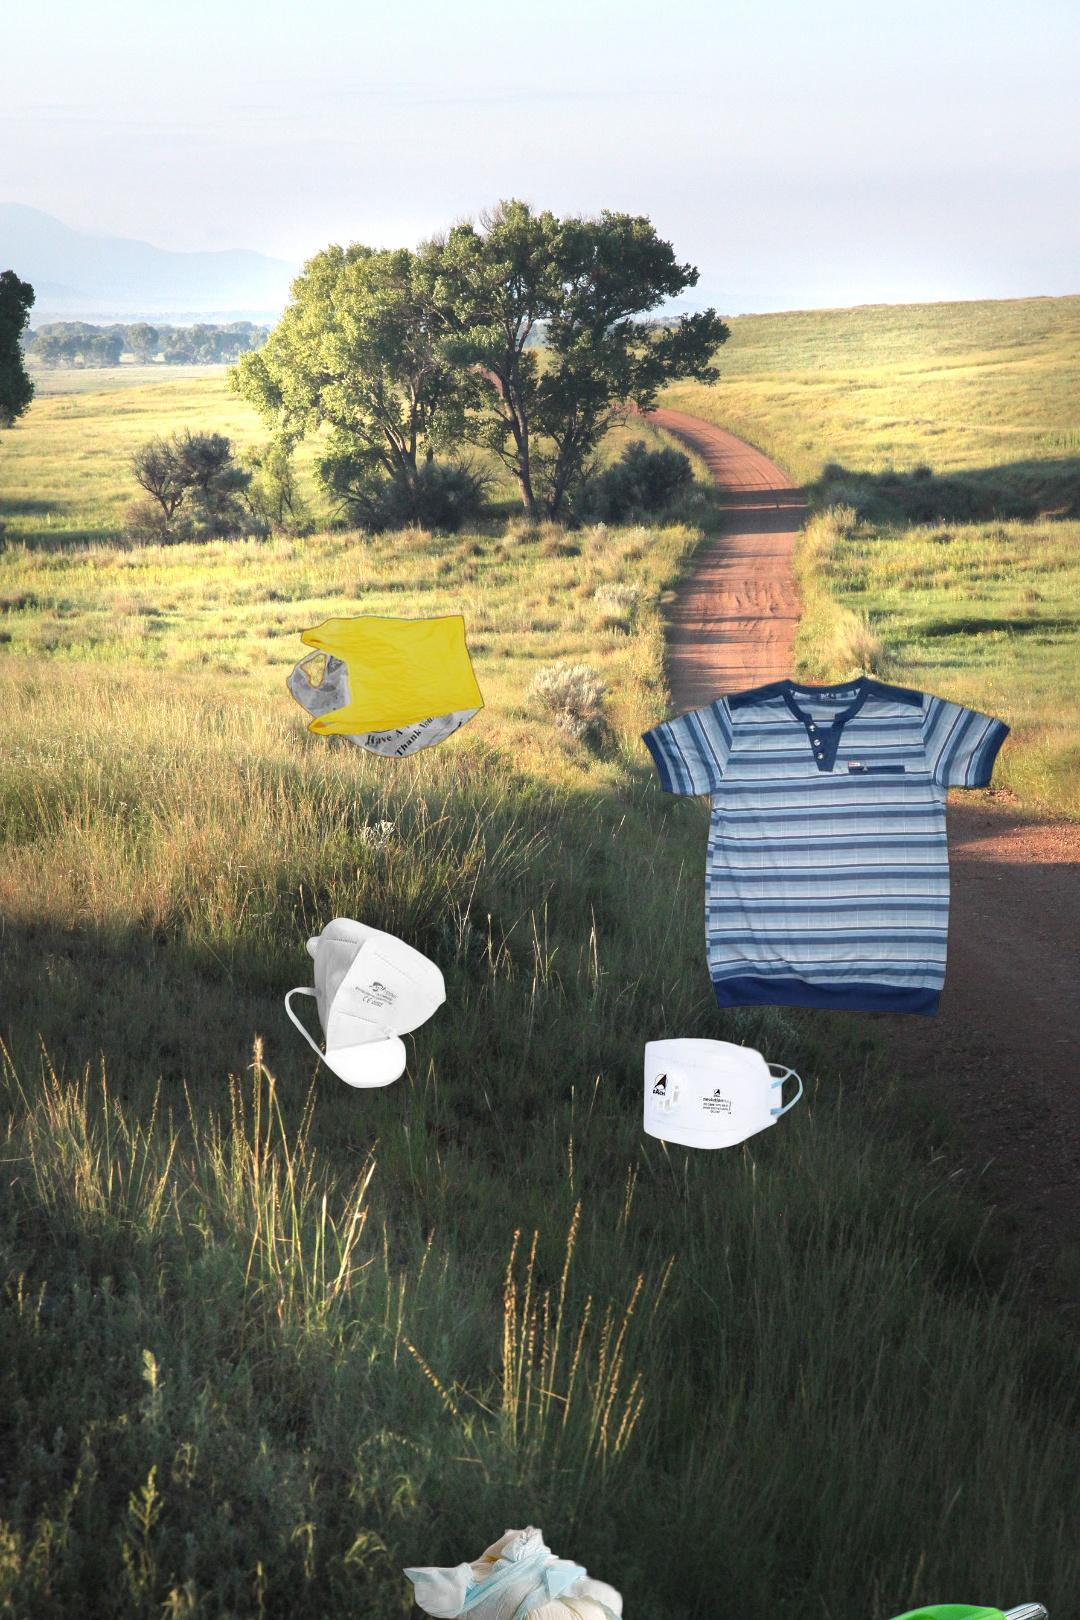clothes: (636, 670, 1015, 1022)
penholder: (328, 1598, 1064, 1620)
plastic-bag: (283, 589, 487, 759)
trash: (282, 914, 448, 1091), (640, 994, 822, 1152), (399, 1519, 630, 1620)
